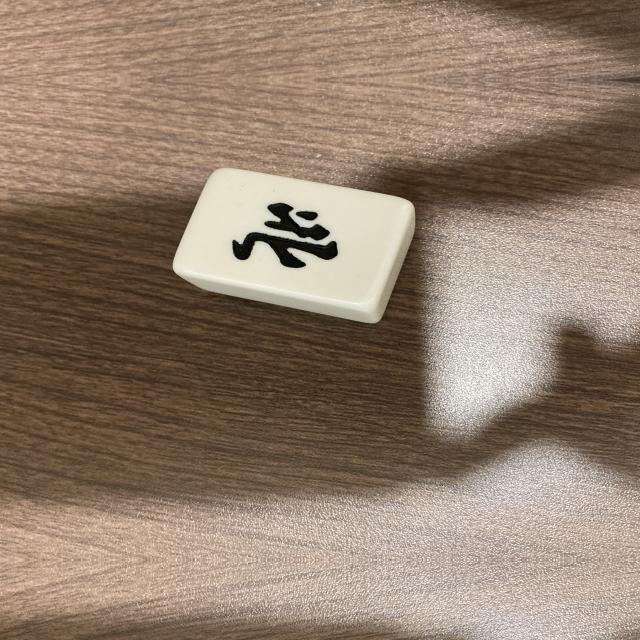north: (205, 175, 408, 312)
